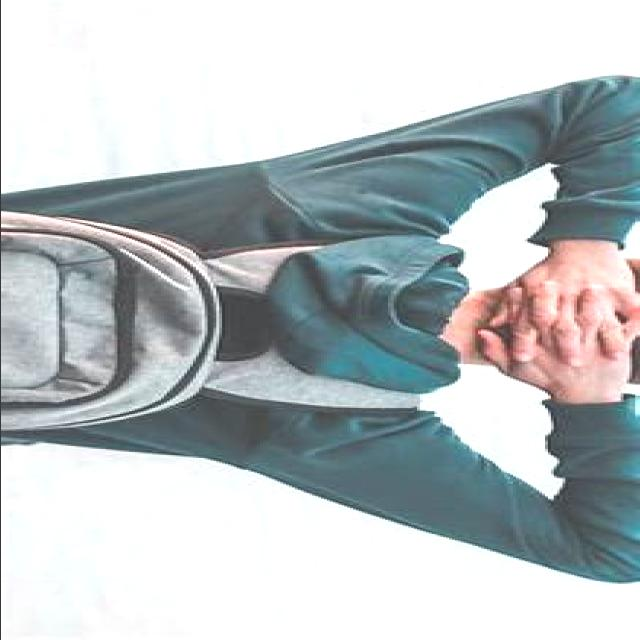backpack: (4, 211, 423, 434)
